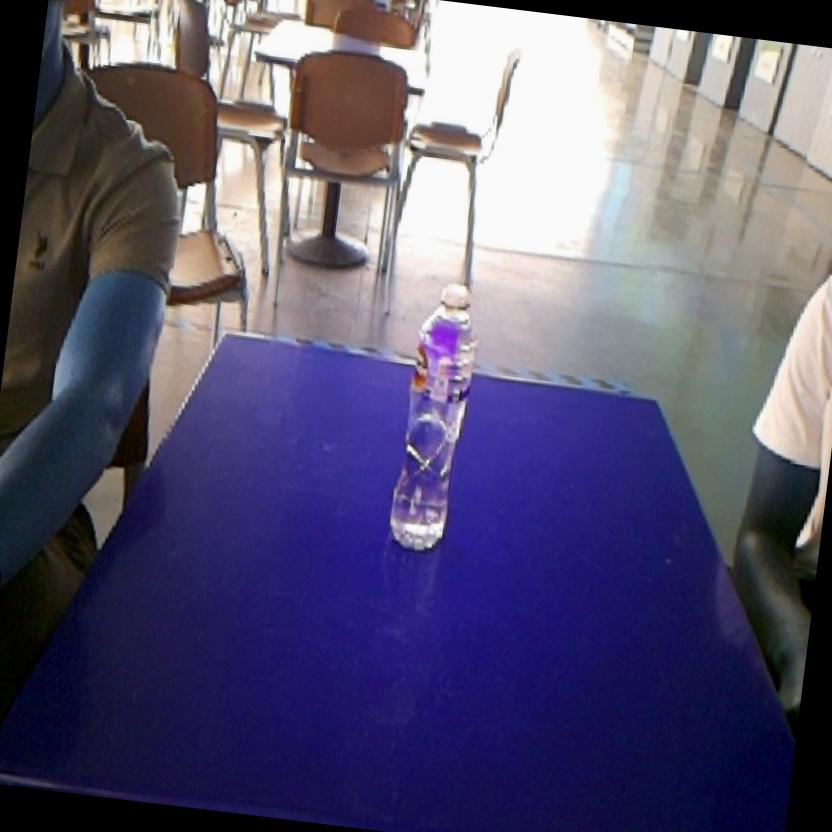no_cap: (376, 268, 496, 566)
